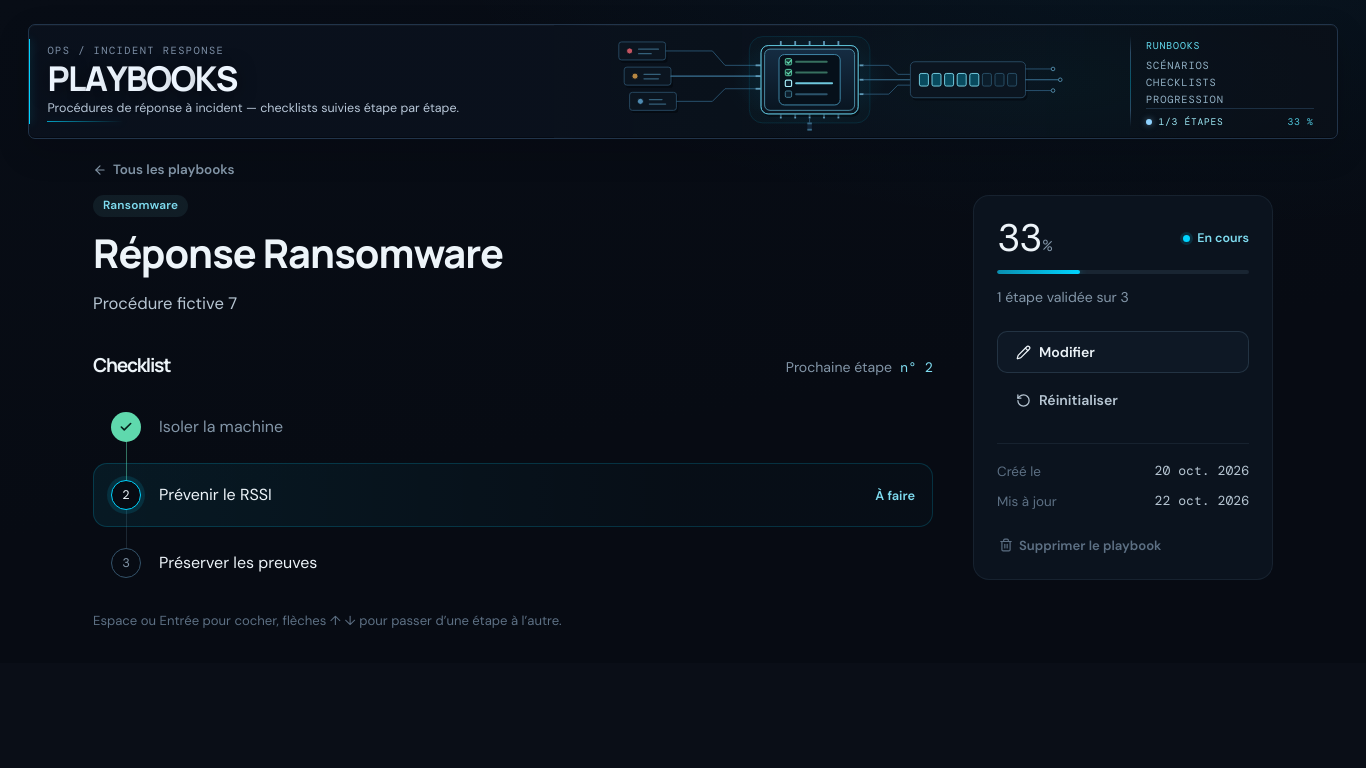
it: Playbooks 2026 — détail et checklist › demande confirmation avant de réinitialiser, et Échap annule
Check: the heading "Réponse Ransomware" is shown, box 93,226 -> 503,280
Click the button "Réinitialiser" at x=1123, y=400, box 997,379 -> 1249,421
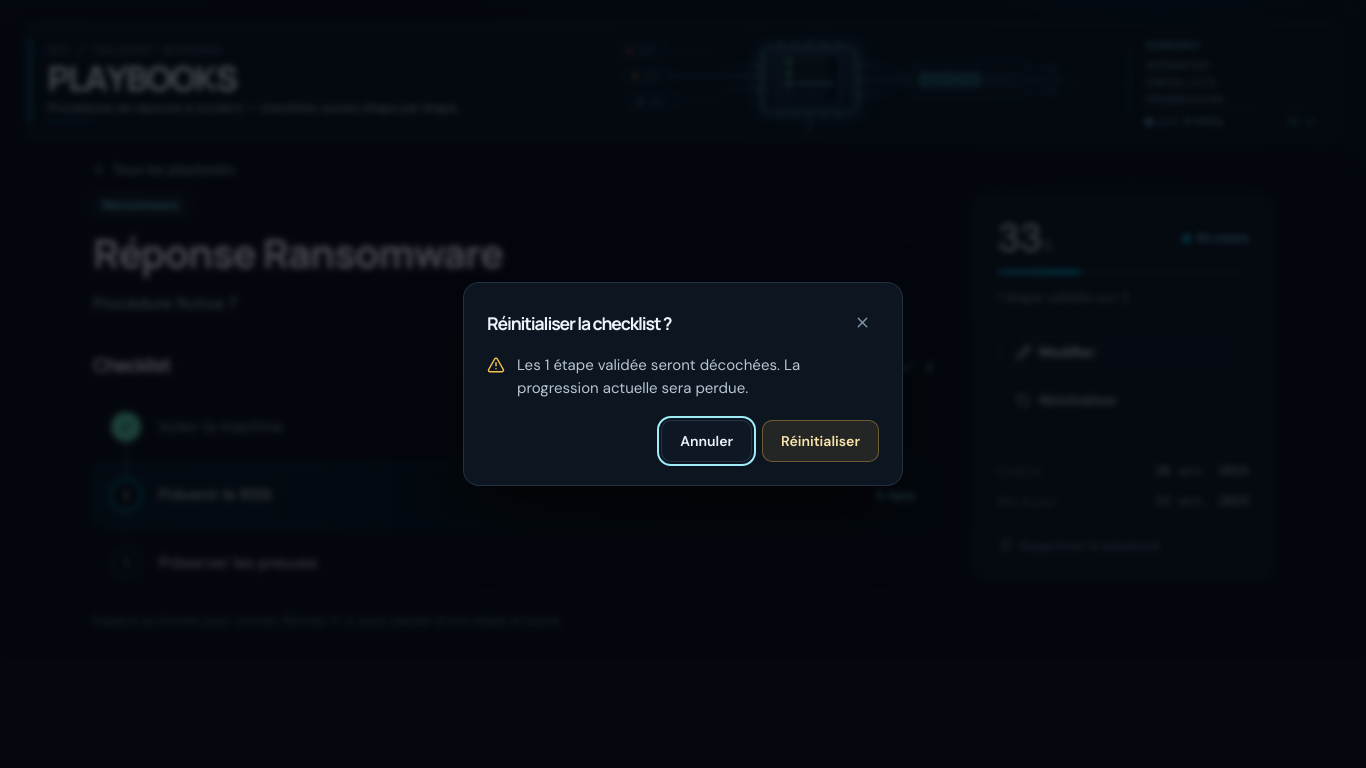
Press Escape in the dialog "Réinitialiser la checklist ?", box 463,282 -> 903,486
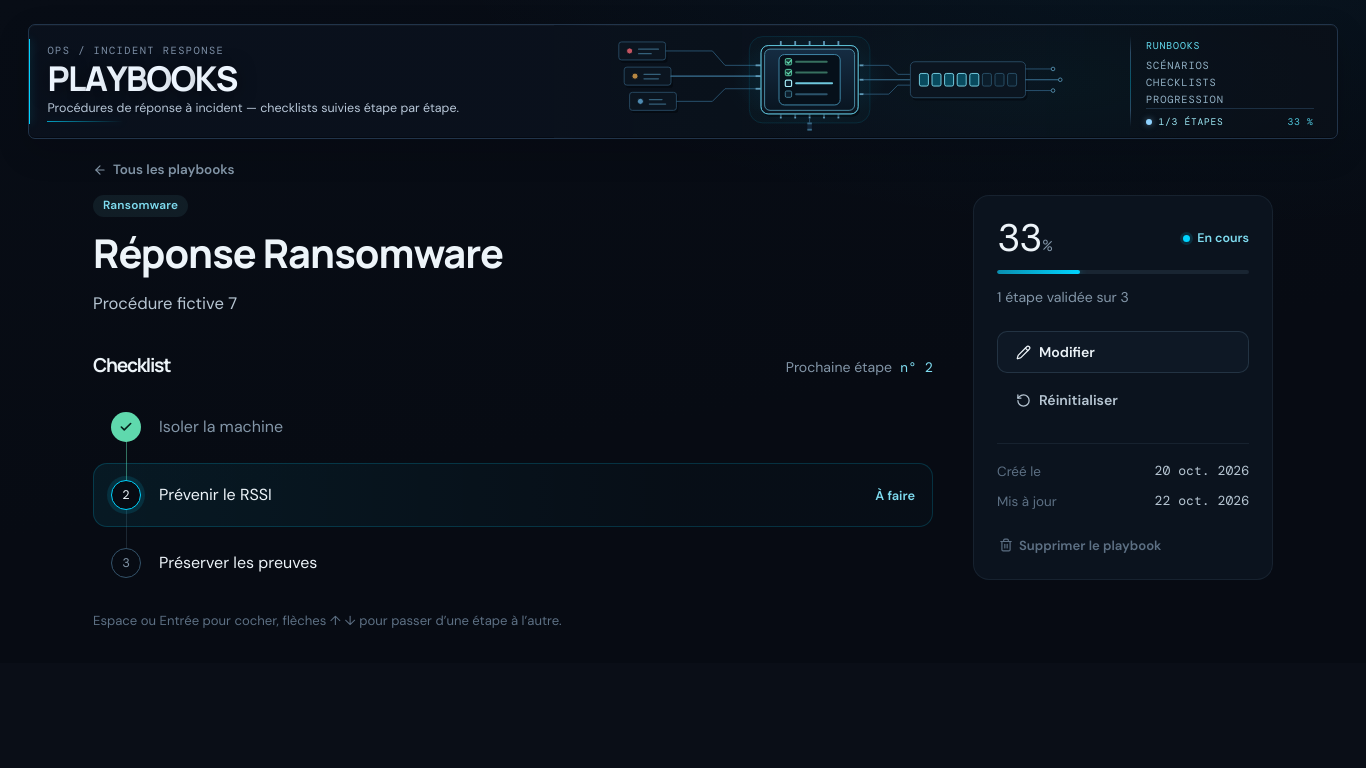
Click the button "Réinitialiser" at x=1123, y=400, box 997,379 -> 1249,421
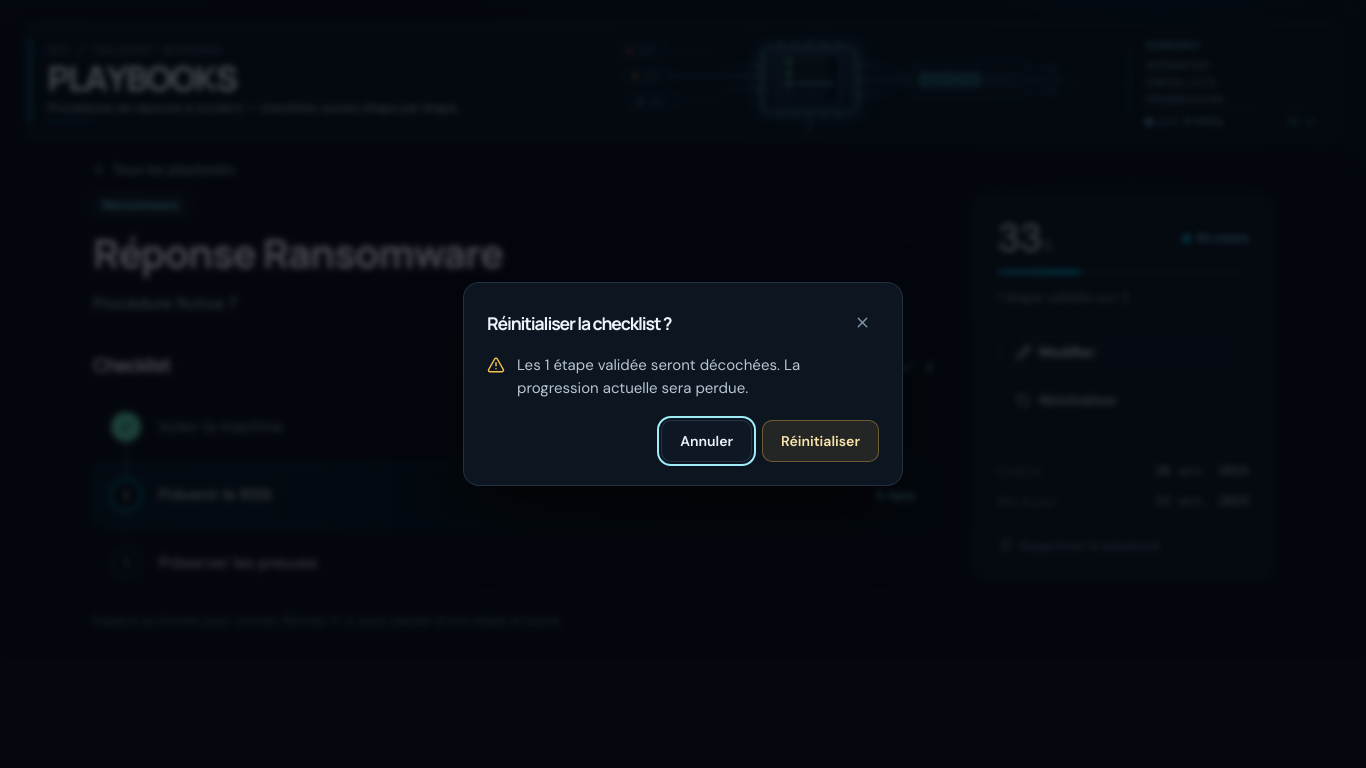
Click the button "Réinitialiser" at x=821, y=441, box 762,420 -> 879,462
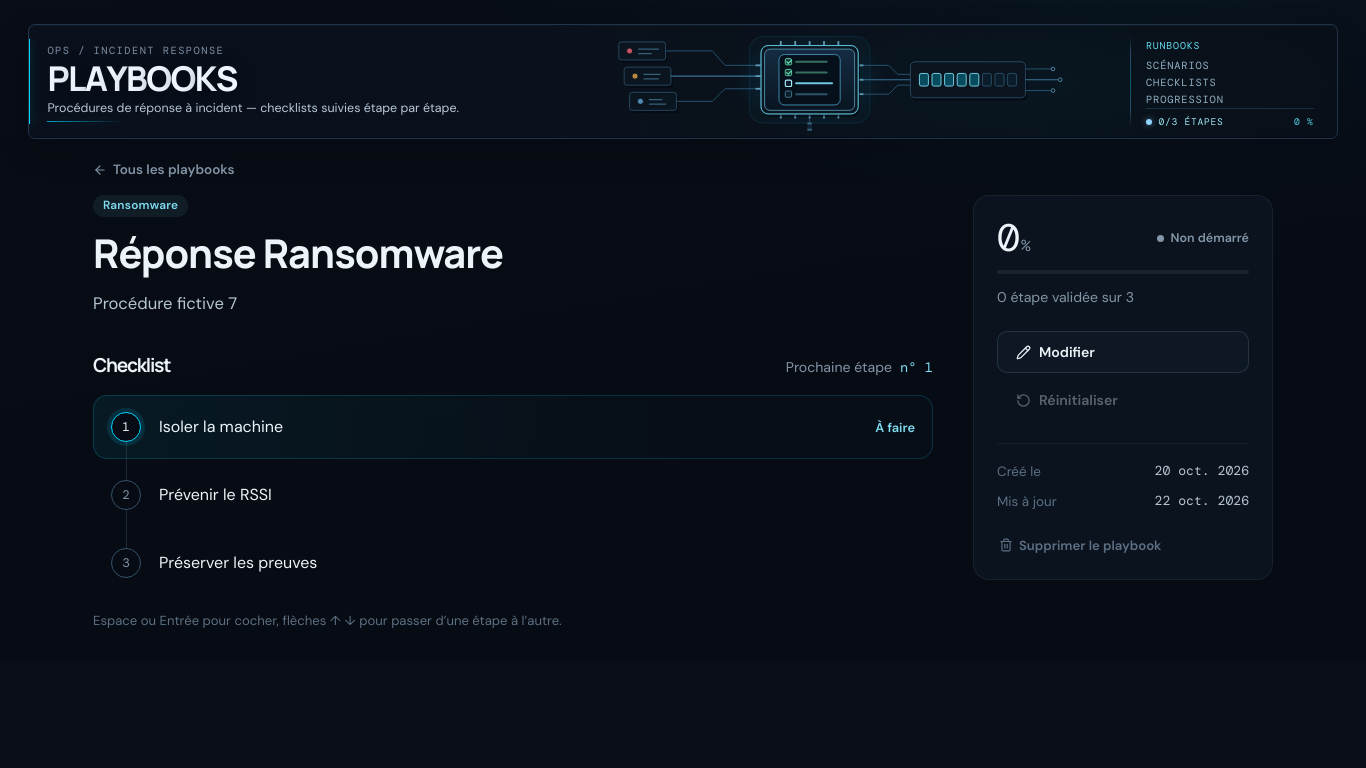
Check: the dialog is gone
